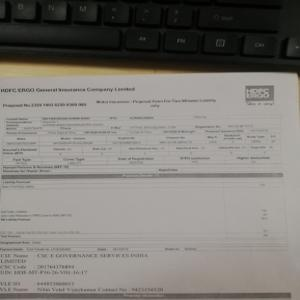image: (244, 83, 277, 102)
table: (1, 171, 291, 246), (2, 109, 284, 171)
text: (1, 248, 183, 292)
